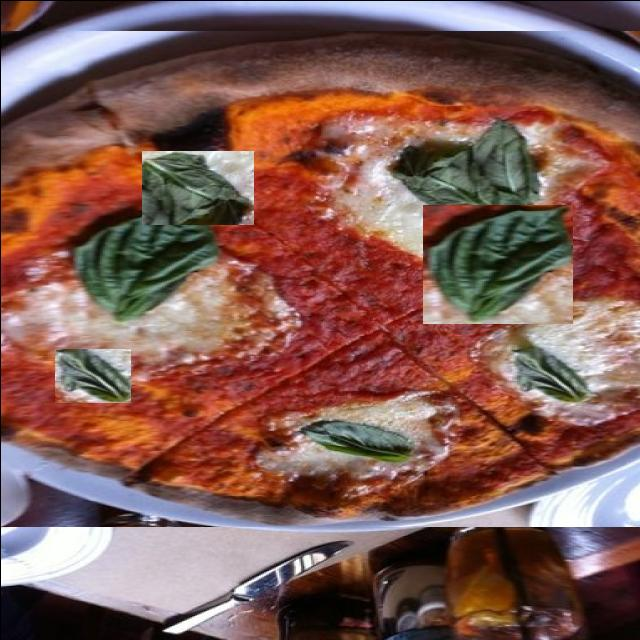basil: (422, 204, 572, 323), (141, 150, 253, 224), (102, 116, 169, 219), (227, 420, 349, 464), (54, 348, 130, 402)
pizza: (0, 30, 640, 526)
